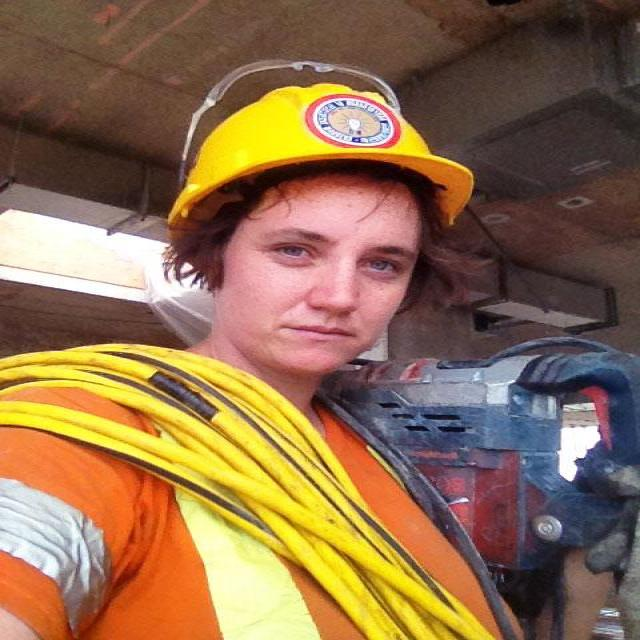Reflective-Jacket: (0, 344, 561, 640)
Safety-Helmet: (164, 74, 481, 219)
